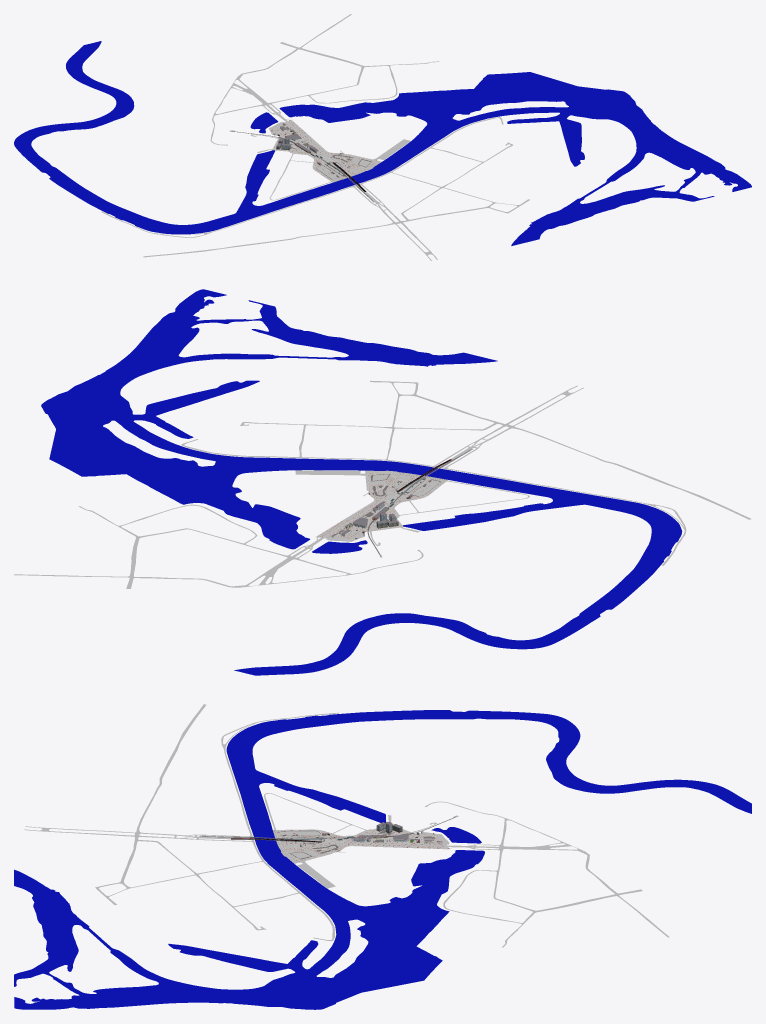
Rendered from MODEL_Environment.FBX.
3 views of the same model, one above another, from view 1: azimuth 30°, elevation 25°; view 2: azimuth 150°, elevation 25°; view 3: azimuth 270°, elevation 25° (orthographic). The views are drawn at different scales.
Parts seen in each view (by area): view 1: SM_NS_WATER, SM_NS_TP_Asphalt_suround, SM_NS_TP_Asphalt, SM_NS_TP_FloorTile03, SM_NS_TP_Grass; view 2: SM_NS_WATER, SM_NS_TP_Asphalt_suround, SM_NS_TP_Asphalt, SM_NS_TP_FloorTile03, SM_NS_TP_Grass; view 3: SM_NS_WATER, SM_NS_TP_Asphalt_suround, SM_NS_TP_Asphalt, SM_NS_TP_FloorTile03, SM_NS_TP_Grass.
Boxes of the visible parts, x1=… form: SM_NS_WATER: x1=14, y1=41, x2=751, y2=245; SM_NS_TP_Asphalt_suround: x1=101, y1=14, x2=529, y2=260; SM_NS_TP_Asphalt: x1=269, y1=120, x2=376, y2=181; SM_NS_TP_FloorTile03: x1=270, y1=119, x2=376, y2=182; SM_NS_TP_Grass: x1=271, y1=120, x2=381, y2=182; SM_NS_WATER: x1=41, y1=289, x2=682, y2=675; SM_NS_TP_Asphalt_suround: x1=14, y1=380, x2=751, y2=588; SM_NS_TP_Asphalt: x1=317, y1=473, x2=446, y2=541; SM_NS_TP_FloorTile03: x1=315, y1=472, x2=447, y2=539; SM_NS_TP_Grass: x1=317, y1=470, x2=447, y2=539; SM_NS_WATER: x1=14, y1=710, x2=751, y2=1009; SM_NS_TP_Asphalt_suround: x1=24, y1=704, x2=669, y2=947; SM_NS_TP_Asphalt: x1=274, y1=829, x2=449, y2=861; SM_NS_TP_FloorTile03: x1=274, y1=828, x2=449, y2=861; SM_NS_TP_Grass: x1=273, y1=830, x2=449, y2=863.
Size of the model in its own units: 5760 by 81.64 by 5877.
